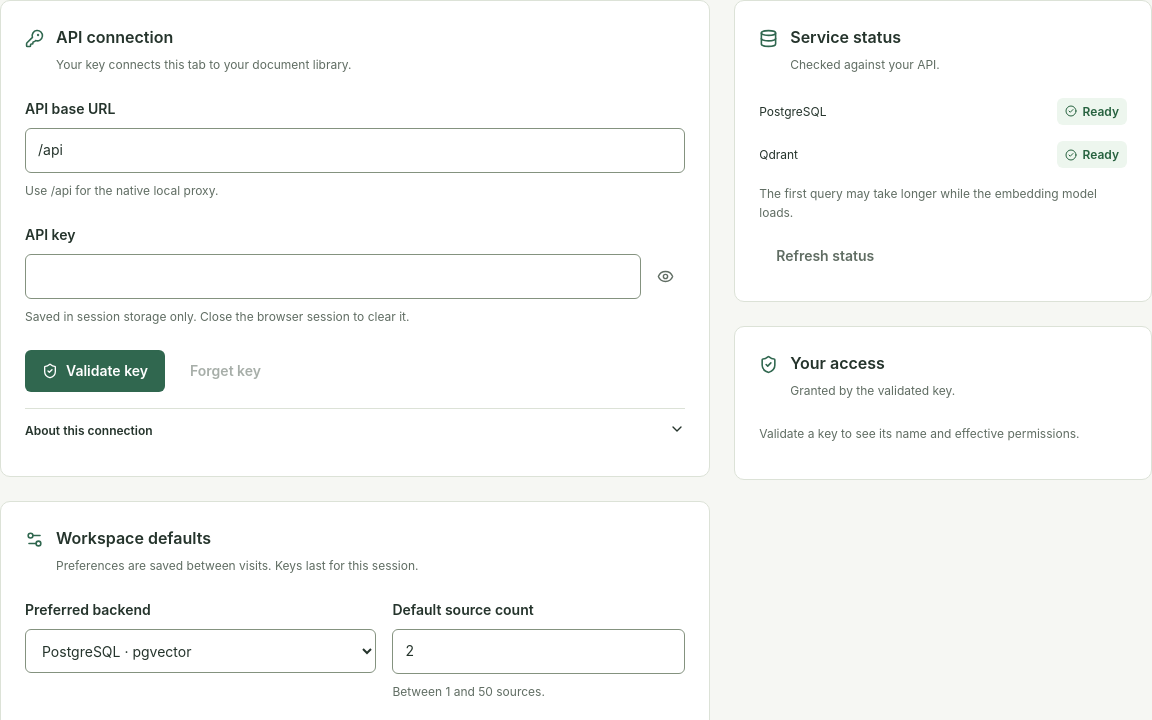
Test case: Settings and scope flow › shows a shared invalid-key error with copyable request details
The image size is (1152, 720).
Step 1. Type "bad-value" into the password field labelled "API key" → x=333, y=276, box [25,254,641,298]
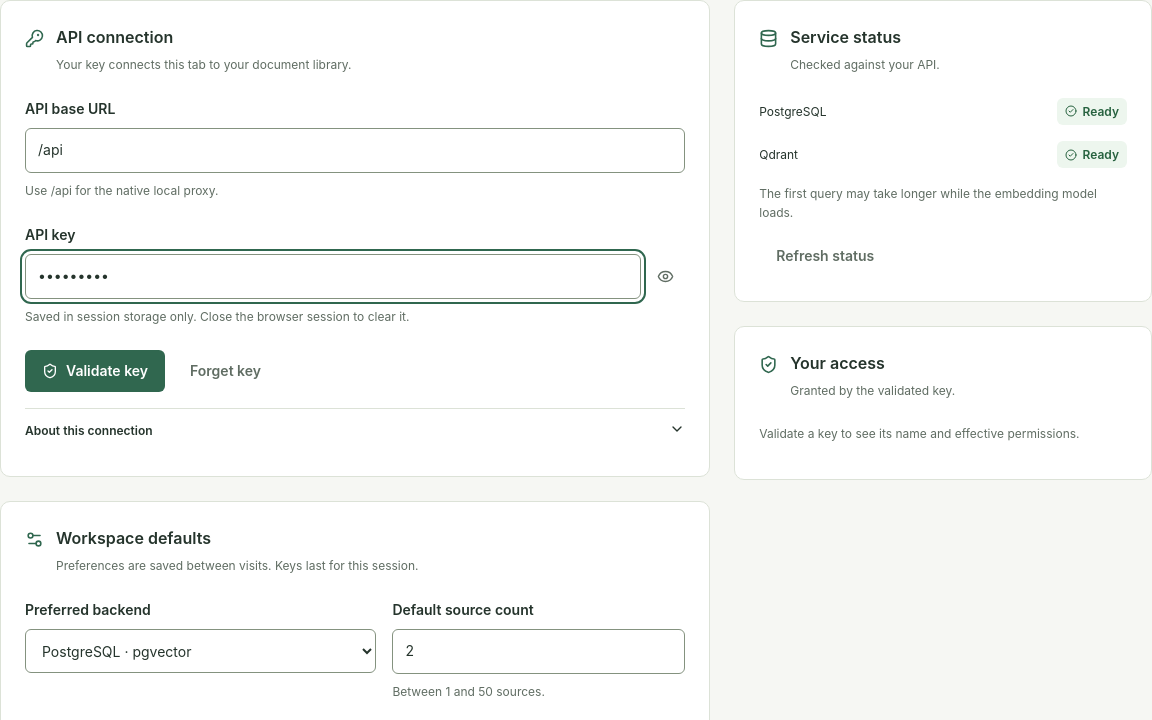
Step 2. Click the button "Validate key" → x=95, y=371, box [25,350,165,392]
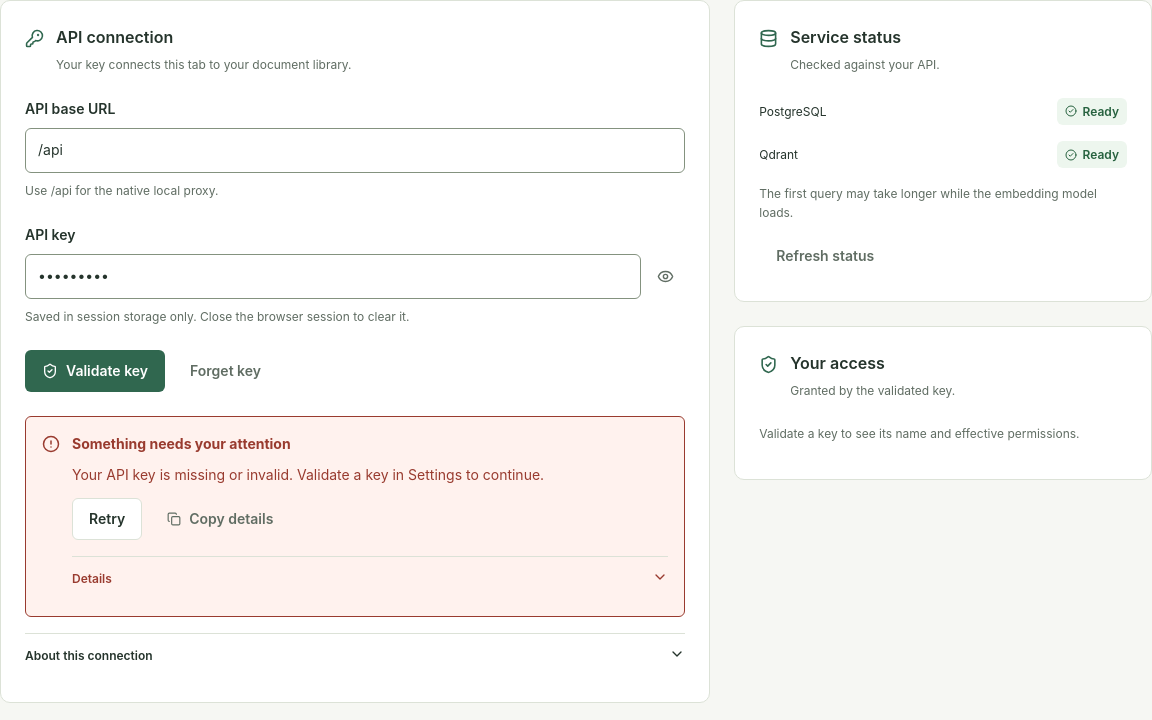
Check: the message is shown, box [25,416,685,618]
Check: the message shows "Your API key is missing or invalid", box [72,466,544,482]
Check: the button "Copy details" is shown, box [150,498,290,540]
